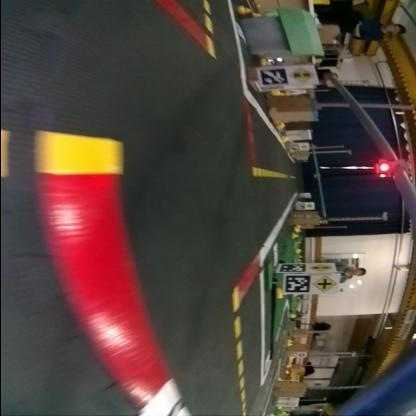Duckie: (238, 5, 250, 13), (276, 288, 284, 298), (272, 89, 284, 95), (264, 58, 271, 64), (281, 136, 288, 141), (276, 122, 284, 126)
Intersection sign: (314, 274, 338, 292)
QR code: (284, 275, 312, 294), (260, 66, 288, 82), (279, 264, 307, 272), (297, 203, 304, 209), (292, 144, 300, 148)
Signal sign: (290, 66, 314, 82), (310, 263, 332, 271)
Traffic light: (376, 159, 408, 177)
